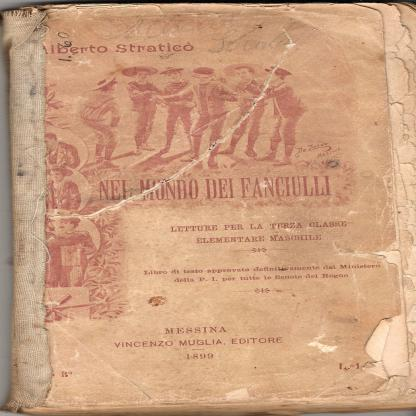book: (11, 0, 416, 416)
